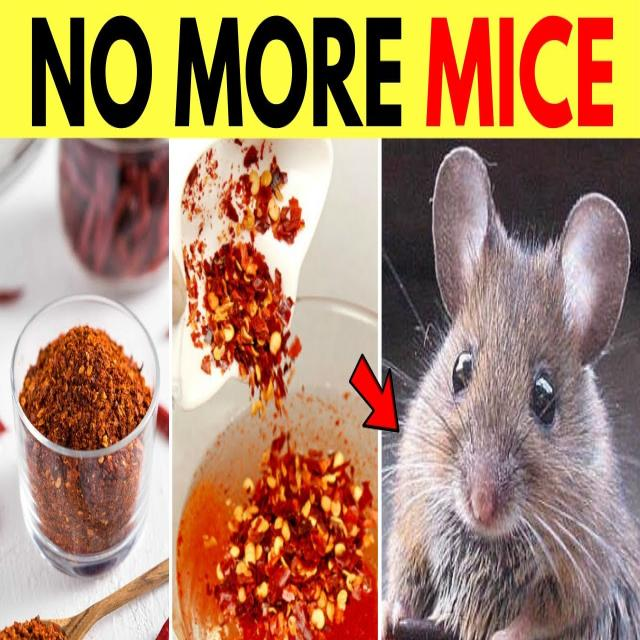rat: (378, 142, 640, 640)
